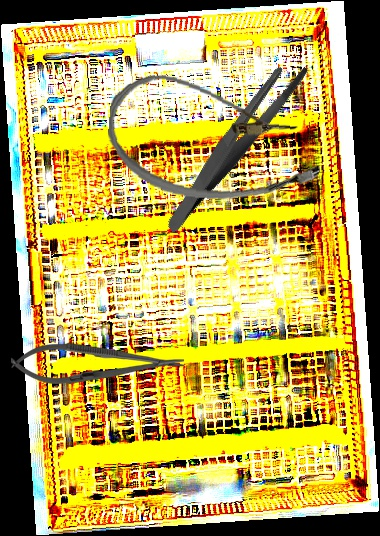Cannula: (103, 69, 327, 209)
Dressing Forceps: (130, 53, 339, 235)
Needle Holder: (11, 342, 184, 386)
